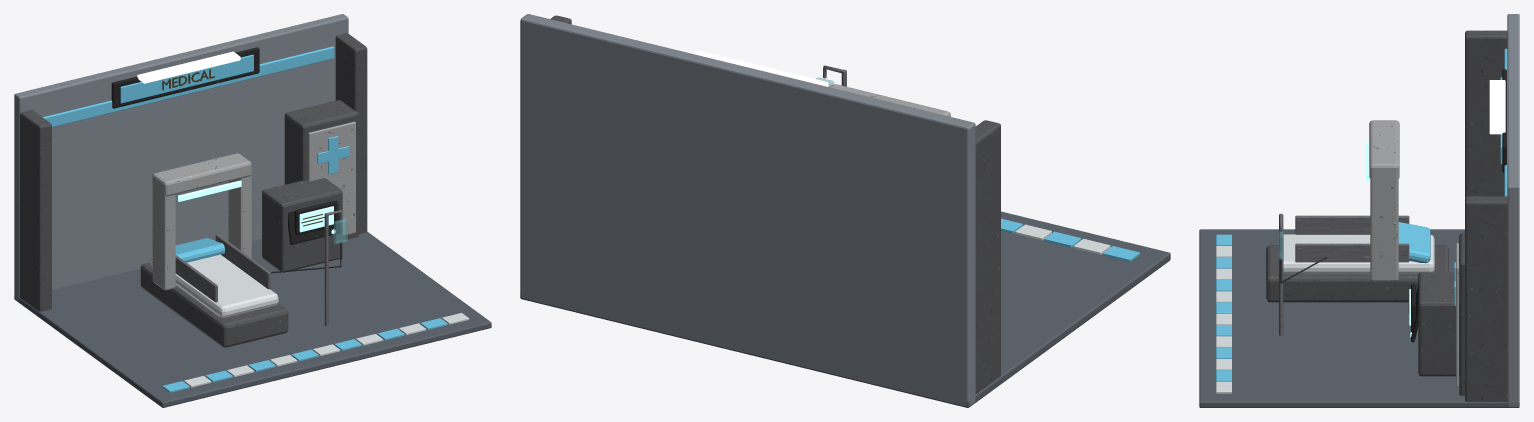
The model's file is department_medical_starter.glb.
3 renders of one model, left to right at view 1: azimuth 30°, elevation 25°; view 2: azimuth 150°, elevation 25°; view 3: azimuth 270°, elevation 25°, orthographic. The views are drawn at different scales.
Visible parts, largest first — view 1: DEPT_Medical__Back_Wall, DEPT_Medical__Floor, DEPT_Medical__Left_Pilaster, DEPT_Medical__Medical_Console_Body, DEPT_Medical__Bed_Base, DEPT_Medical__Right_Pilaster, DEPT_Medical__Supply_Cabinet, DEPT_Medical__Bed_Mattress, DEPT_Medical__Supply_Door, DEPT_Medical__Back_Wall_Accent, DEPT_Medical__Scanner_Crown, DEPT_Medical__Scanner_Post_-1.08 (+12 smaller); view 2: DEPT_Medical__Back_Wall, DEPT_Medical__Floor, DEPT_Medical__Left_Pilaster, DEPT_Medical__Ceiling_Light, DEPT_Medical__Scanner_Crown; view 3: DEPT_Medical__Floor, DEPT_Medical__Right_Pilaster, DEPT_Medical__Left_Pilaster, DEPT_Medical__Back_Wall, DEPT_Medical__Bed_Base, DEPT_Medical__Medical_Console_Body, DEPT_Medical__Scanner_Post_-0.02, DEPT_Medical__Bed_Mattress, DEPT_Medical__Scanner_Crown, DEPT_Medical__Bed_Rail_R, DEPT_Medical__Bed_Rail_L, DEPT_Medical__Bed_Headrest (+6 smaller).
Boxes of the visible parts, bbox=[...] form: DEPT_Medical__Back_Wall: bbox=[14, 14, 348, 301]; DEPT_Medical__Floor: bbox=[14, 232, 491, 407]; DEPT_Medical__Left_Pilaster: bbox=[20, 110, 51, 311]; DEPT_Medical__Medical_Console_Body: bbox=[262, 178, 342, 272]; DEPT_Medical__Bed_Base: bbox=[140, 262, 288, 347]; DEPT_Medical__Right_Pilaster: bbox=[335, 33, 367, 234]; DEPT_Medical__Supply_Cabinet: bbox=[284, 100, 358, 240]; DEPT_Medical__Bed_Mattress: bbox=[151, 254, 278, 317]; DEPT_Medical__Supply_Door: bbox=[308, 121, 355, 235]; DEPT_Medical__Back_Wall_Accent: bbox=[42, 46, 334, 127]; DEPT_Medical__Scanner_Crown: bbox=[152, 153, 251, 196]; DEPT_Medical__Scanner_Post_-1.08: bbox=[152, 186, 175, 290]; DEPT_Medical__Back_Wall: bbox=[520, 14, 975, 406]; DEPT_Medical__Floor: bbox=[520, 211, 1170, 407]; DEPT_Medical__Left_Pilaster: bbox=[975, 120, 1000, 394]; DEPT_Medical__Ceiling_Light: bbox=[693, 50, 828, 86]; DEPT_Medical__Scanner_Crown: bbox=[829, 84, 950, 116]; DEPT_Medical__Floor: bbox=[1199, 229, 1519, 407]; DEPT_Medical__Right_Pilaster: bbox=[1465, 196, 1507, 401]; DEPT_Medical__Left_Pilaster: bbox=[1465, 30, 1507, 197]; DEPT_Medical__Back_Wall: bbox=[1507, 14, 1519, 406]; DEPT_Medical__Bed_Base: bbox=[1266, 245, 1448, 302]; DEPT_Medical__Medical_Console_Body: bbox=[1418, 272, 1459, 376]; DEPT_Medical__Scanner_Post_-0.02: bbox=[1370, 177, 1398, 281]; DEPT_Medical__Bed_Mattress: bbox=[1283, 234, 1434, 274]; DEPT_Medical__Scanner_Crown: bbox=[1369, 120, 1399, 178]; DEPT_Medical__Bed_Rail_R: bbox=[1295, 243, 1409, 262]; DEPT_Medical__Bed_Rail_L: bbox=[1295, 215, 1409, 234]; DEPT_Medical__Bed_Headrest: bbox=[1398, 222, 1430, 263].
Size of the model in its own units: 4.6 by 2.75 by 3.6.
13 materials, 4 textured.
